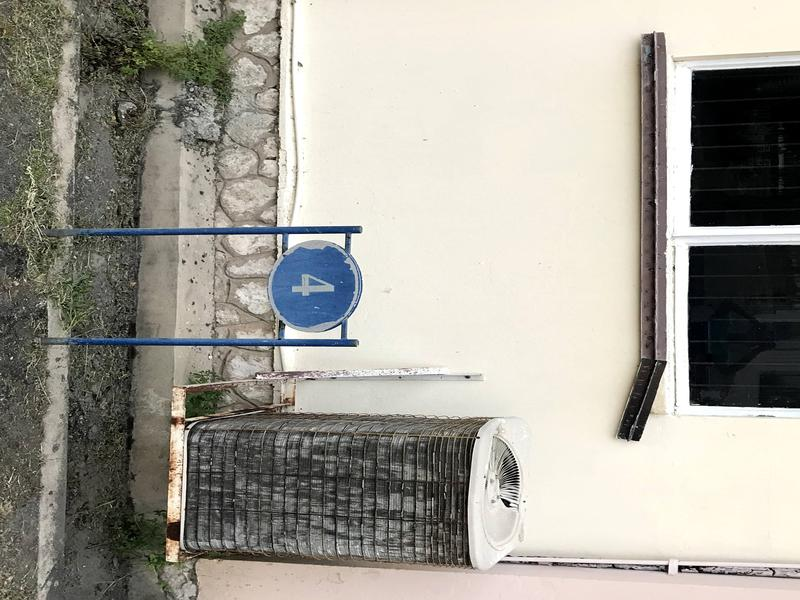18.0053530_-76.7490375_signatentrancetoscitech: (29, 217, 397, 367)
